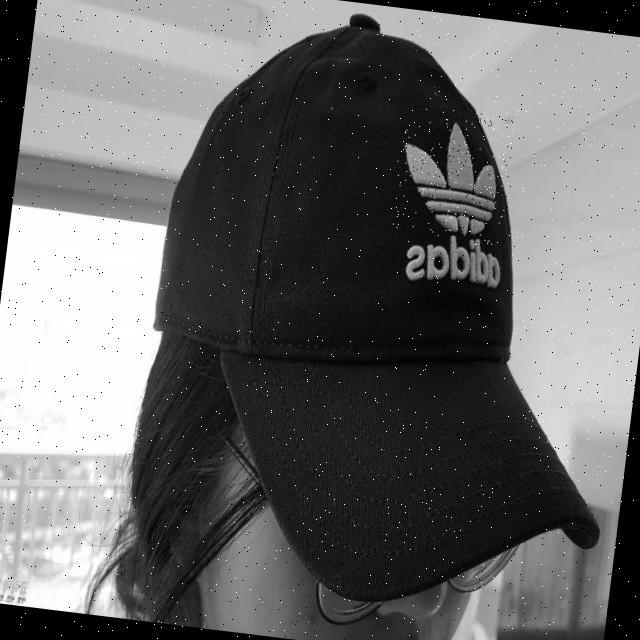Adidas: (388, 104, 515, 248)
